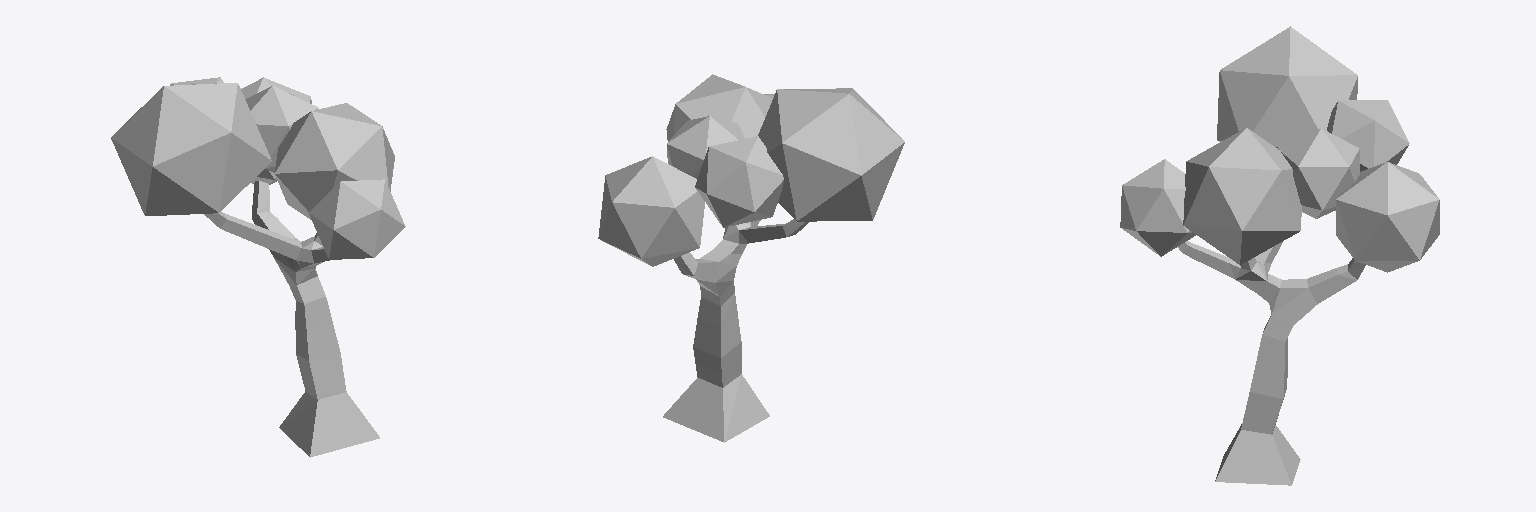
Rendered from uploads_files_3070616_low+polly+trees+2.obj.
The picture shows the model from 3 angles: view 1: azimuth 30°, elevation 25°; view 2: azimuth 150°, elevation 25°; view 3: azimuth 270°, elevation 25°; orthographic projection.
Visible parts, largest first — view 1: Icosphere.002, Cube, Icosphere.005, Icosphere.001, Icosphere.003, Icosphere; view 2: Icosphere.002, Cube, Icosphere, Icosphere.004, Icosphere.005, Icosphere.003; view 3: Cube, Icosphere.005, Icosphere.002, Icosphere, Icosphere.001, Icosphere.003, Icosphere.004.
Boxes of the visible parts, <box> form: Icosphere.002: <box>111,83,271,215</box>; Cube: <box>204,181,379,457</box>; Icosphere.005: <box>275,103,394,219</box>; Icosphere.001: <box>309,179,405,259</box>; Icosphere.003: <box>245,86,318,172</box>; Icosphere: <box>241,77,311,184</box>; Icosphere.002: <box>758,88,904,221</box>; Cube: <box>663,219,808,442</box>; Icosphere: <box>598,156,704,266</box>; Icosphere.004: <box>695,136,783,227</box>; Icosphere.005: <box>666,74,772,140</box>; Icosphere.003: <box>667,116,744,178</box>; Cube: <box>1178,241,1365,485</box>; Icosphere.005: <box>1183,128,1301,264</box>; Icosphere.002: <box>1217,26,1357,147</box>; Icosphere: <box>1336,162,1439,272</box>; Icosphere.001: <box>1120,159,1195,256</box>; Icosphere.003: <box>1277,128,1359,218</box>; Icosphere.004: <box>1327,100,1409,171</box>.
Size of the model in its own units: 1.48 by 2.2 by 1.7.